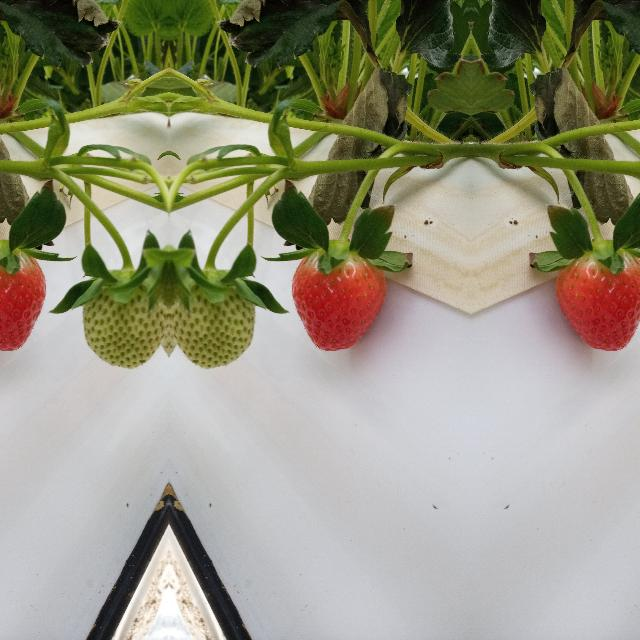Health_100: (289, 247, 386, 353), (554, 247, 640, 353), (0, 247, 46, 353)
Health_25: (174, 251, 256, 373), (80, 251, 162, 373)
